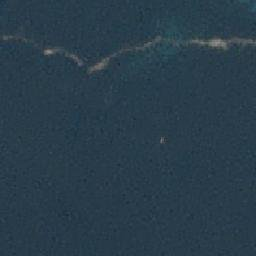debris: (195, 35, 256, 48), (86, 57, 112, 73), (165, 39, 194, 47), (69, 55, 84, 67), (143, 38, 160, 48), (2, 33, 14, 44), (40, 48, 58, 54)
